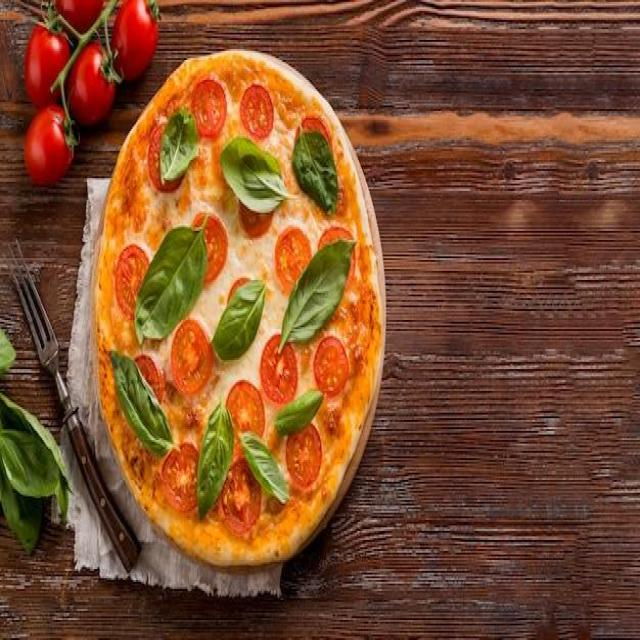basil: (134, 208, 214, 348), (136, 207, 210, 344), (0, 392, 75, 522), (278, 238, 358, 355), (107, 347, 180, 465), (218, 137, 300, 219), (210, 271, 268, 360), (292, 114, 339, 218), (198, 398, 235, 520), (237, 428, 290, 508), (0, 463, 41, 559), (160, 108, 200, 185), (273, 388, 326, 431), (0, 326, 17, 383)
pizza: (93, 48, 384, 571)
